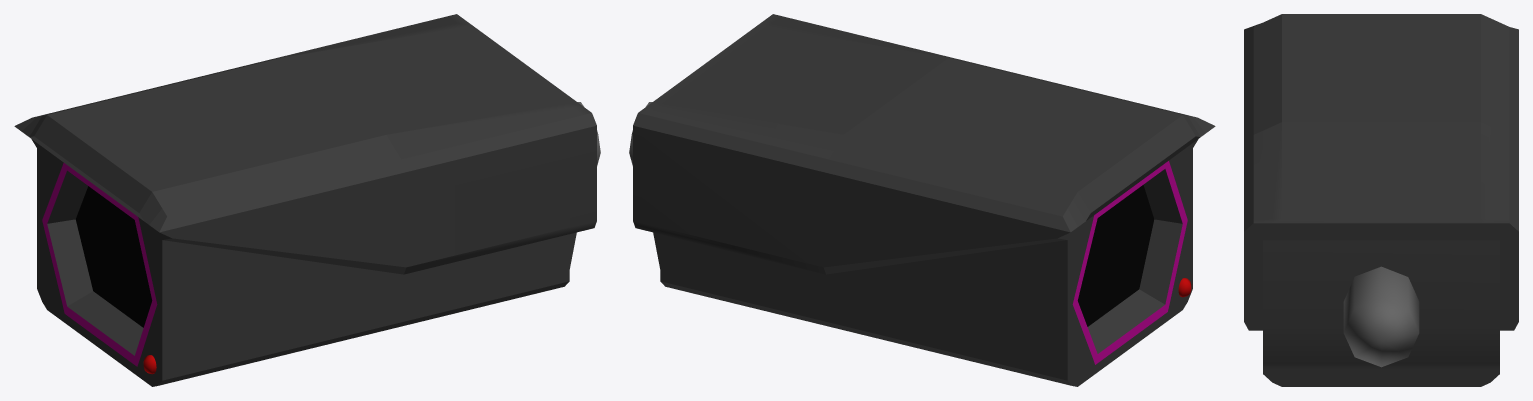
File: CameraMainOriginSet.fbx
The picture shows the model from 3 angles, left to right: view 1: azimuth 30°, elevation 25°; view 2: azimuth 150°, elevation 25°; view 3: azimuth 270°, elevation 25°; orthographic projection. The views are drawn at different scales.
Visible parts, largest first — view 1: MainCamera; view 2: MainCamera; view 3: MainCamera.
Part boxes in pixels (<box>): MainCamera: <box>14,14,600,386</box>; MainCamera: <box>629,14,1215,386</box>; MainCamera: <box>1244,14,1518,386</box>.
Size of the model in its own units: 118 by 43 by 58.
